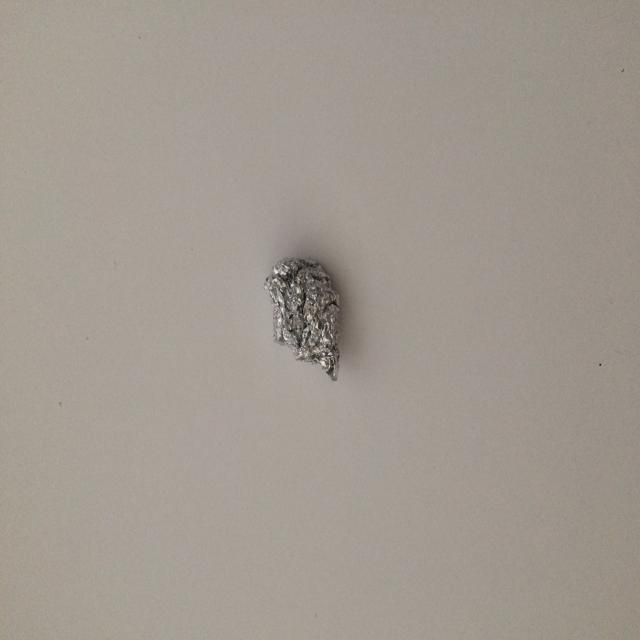metal: (264, 256, 340, 381)
